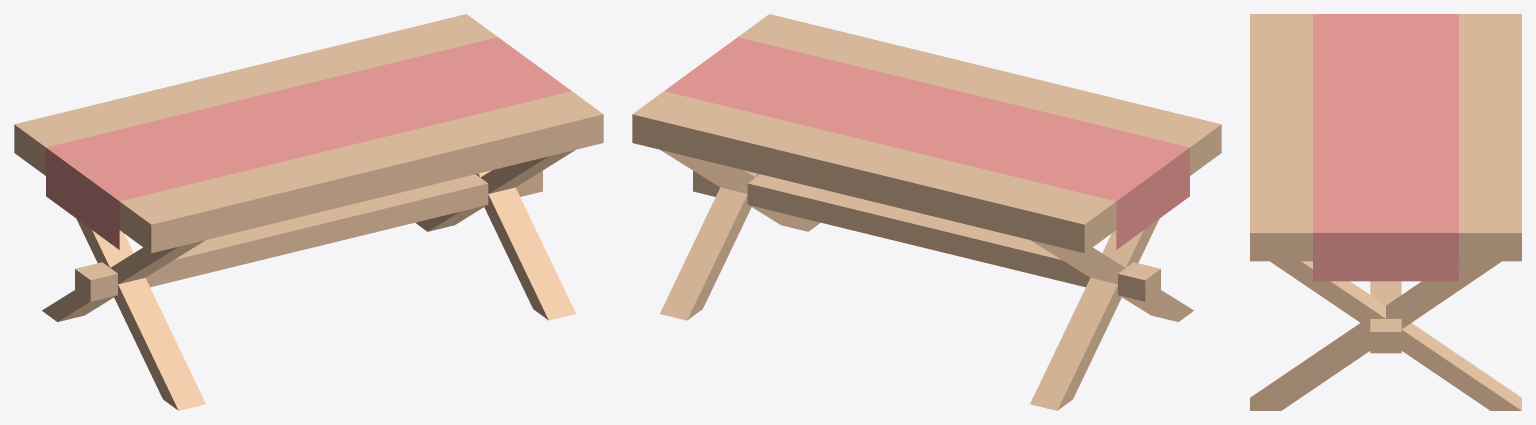
File: table_cross_cloth$col.glb
3 views of the same model, side by side, from view 1: azimuth 30°, elevation 25°; view 2: azimuth 150°, elevation 25°; view 3: azimuth 270°, elevation 25° (orthographic).
Parts seen in each view (by area): view 1: tableCrossCloth(Clone)$col; view 2: tableCrossCloth(Clone)$col; view 3: tableCrossCloth(Clone)$col.
Part boxes in pixels (x1,y1,x2,y2): tableCrossCloth(Clone)$col: (14,14,603,410); tableCrossCloth(Clone)$col: (632,14,1221,410); tableCrossCloth(Clone)$col: (1250,14,1521,410).
Size of the model in its own units: 0.8521 by 0.3474 by 0.4474.
